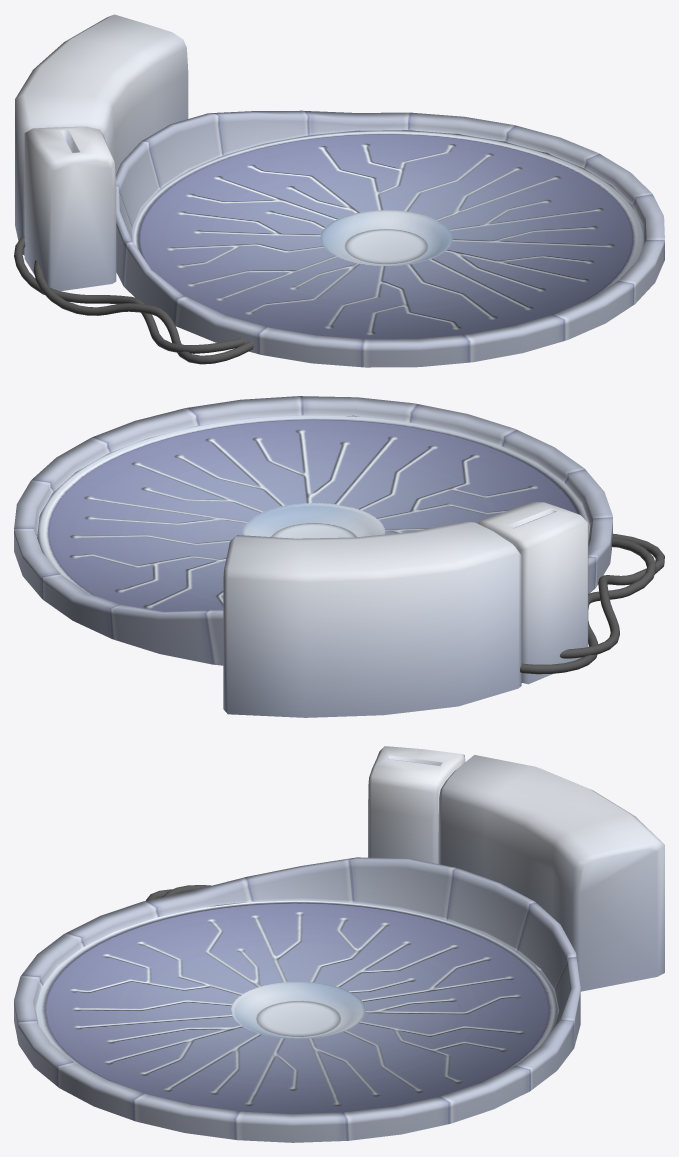
The model's file is computer.fbx.
3 views of the same model, one above another, from view 1: azimuth 30°, elevation 25°; view 2: azimuth 150°, elevation 25°; view 3: azimuth 270°, elevation 25° (orthographic). The views are drawn at different scales.
Visible parts, largest first — view 1: Computer, Cube.001, disk holder, Cable2, Cable1; view 2: Computer, Cube.001, disk holder, Cable1, Cable2; view 3: Computer, Cube.001, disk holder.
Part boxes in pixels (x1,y1,x2,y2): Computer: [115, 110, 664, 367]; Cube.001: [15, 14, 188, 255]; disk holder: [24, 126, 116, 291]; Cable2: [33, 260, 253, 364]; Cable1: [14, 236, 244, 353]; Computer: [14, 396, 612, 665]; Cube.001: [223, 521, 521, 717]; disk holder: [478, 502, 588, 684]; Cable1: [520, 537, 656, 674]; Cable2: [560, 533, 664, 658]; Computer: [14, 857, 580, 1142]; Cube.001: [438, 755, 664, 991]; disk holder: [368, 746, 465, 863].
Size of the model in its own units: 1586 by 375 by 1601.
